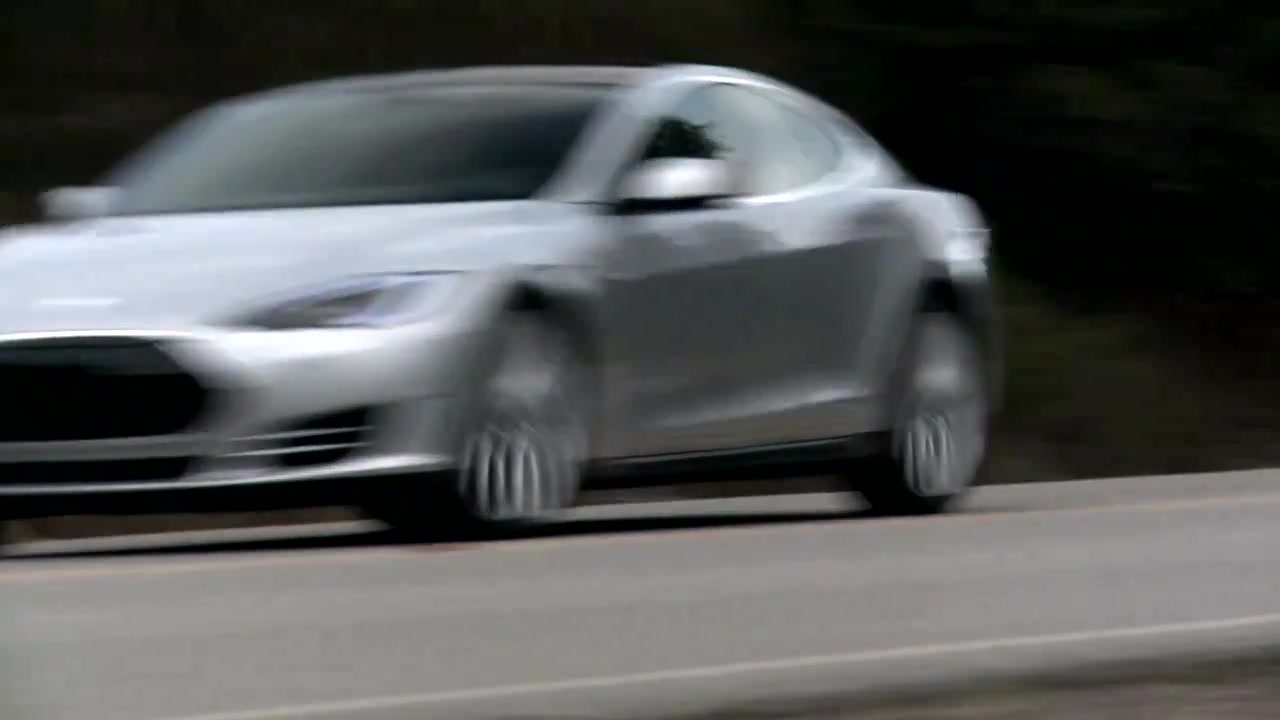car: (2, 47, 1000, 536)
